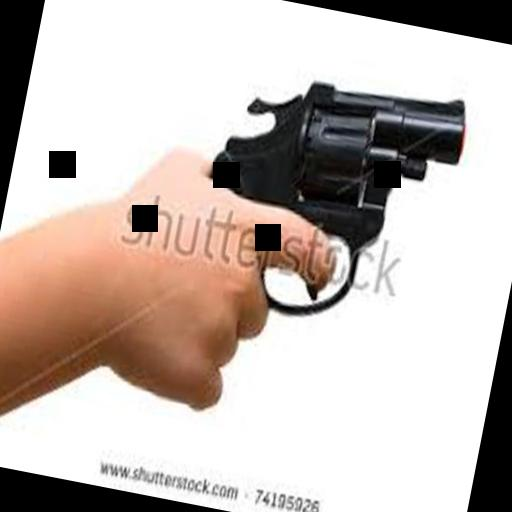Handgun: (172, 28, 481, 346)
